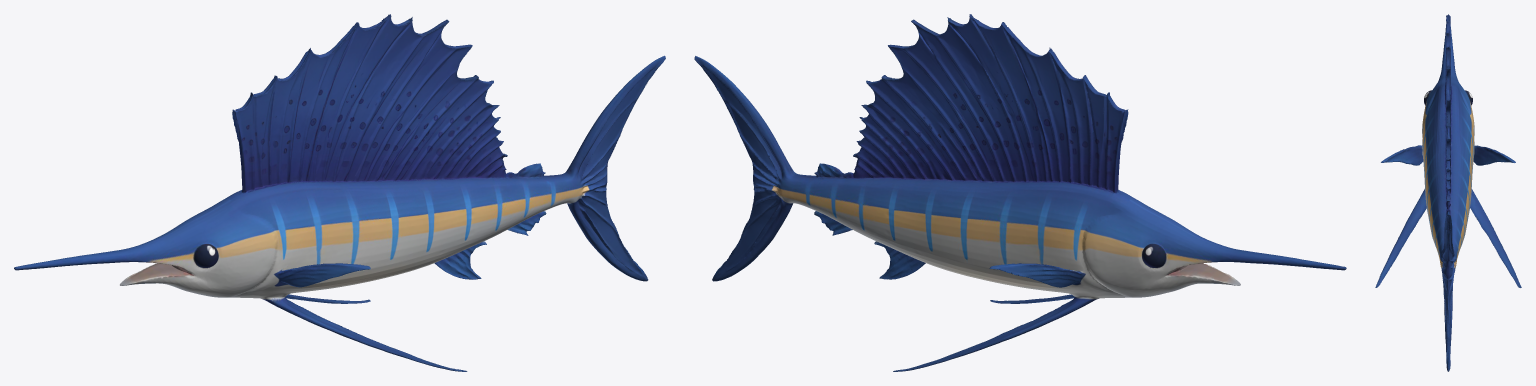
File: Pez-vela.glb
The picture shows the model from 3 angles, left to right: view 1: azimuth 30°, elevation 25°; view 2: azimuth 150°, elevation 25°; view 3: azimuth 270°, elevation 25°; orthographic projection. The views are drawn at different scales.
Parts seen in each view (by area): view 1: tripo_node_12c16396-e21e-47bd-89af-c95989c84e49; view 2: tripo_node_12c16396-e21e-47bd-89af-c95989c84e49; view 3: tripo_node_12c16396-e21e-47bd-89af-c95989c84e49.
Part boxes in pixels (x1,y1,x2,y2): tripo_node_12c16396-e21e-47bd-89af-c95989c84e49: (14,14,665,371); tripo_node_12c16396-e21e-47bd-89af-c95989c84e49: (694,14,1346,371); tripo_node_12c16396-e21e-47bd-89af-c95989c84e49: (1375,14,1521,371).
Size of the model in its own units: 1 by 0.4843 by 0.2611.
1 material, 1 textured.
